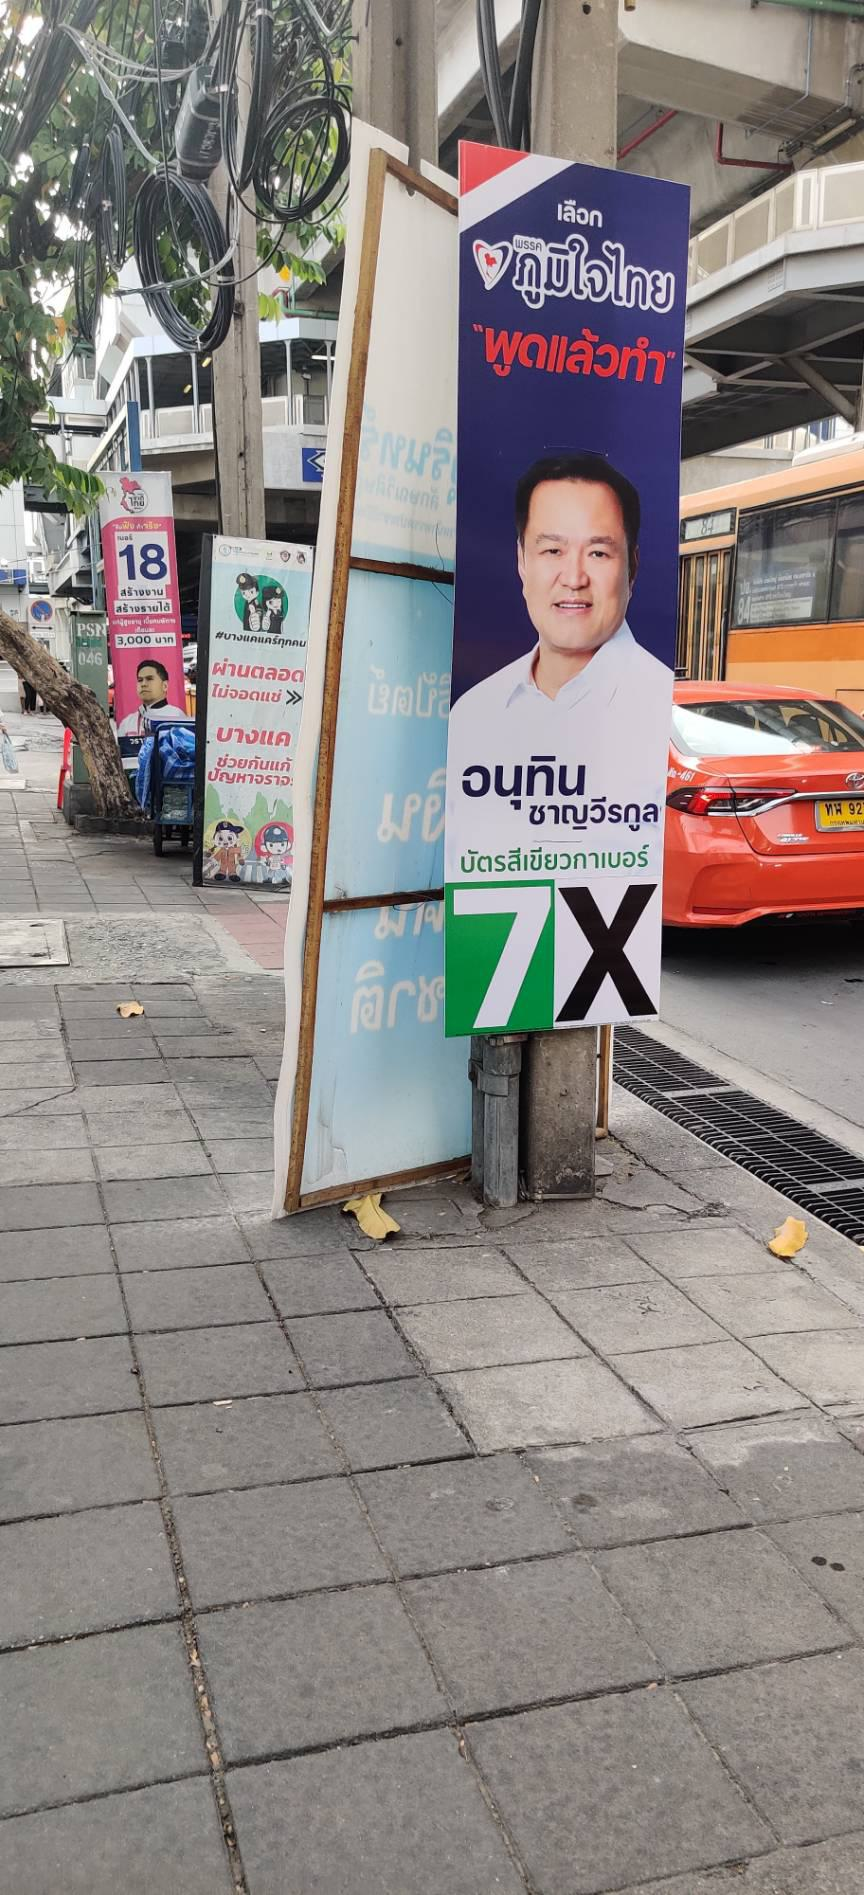Banner: (452, 140, 689, 1026), (97, 477, 170, 801)
